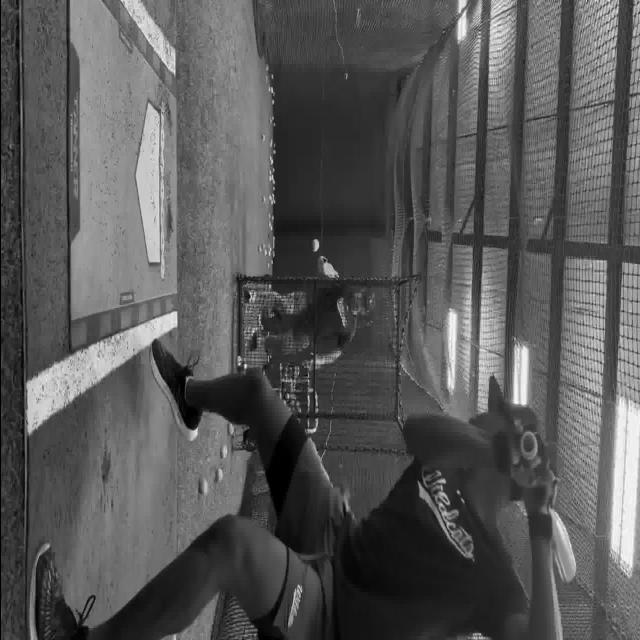baseball: (198, 477, 208, 495), (310, 238, 318, 252), (220, 444, 228, 458), (216, 467, 222, 481), (227, 422, 233, 435)
baseball_glove: (316, 255, 338, 279)
bat: (548, 512, 578, 588)
shoe: (26, 542, 94, 638), (148, 337, 202, 441), (240, 284, 254, 304)
